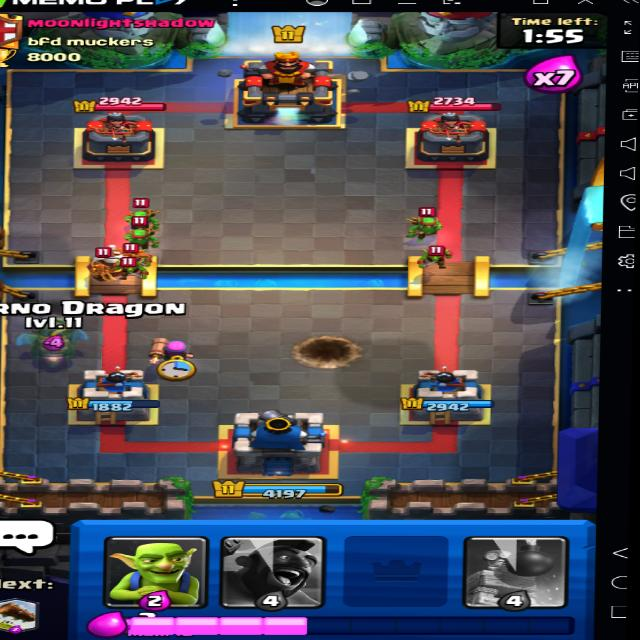goblin: (414, 248, 457, 270), (116, 259, 152, 285)
monk: (74, 237, 146, 281)
spear-goblin: (404, 206, 448, 236), (118, 223, 160, 249), (122, 202, 165, 226)
